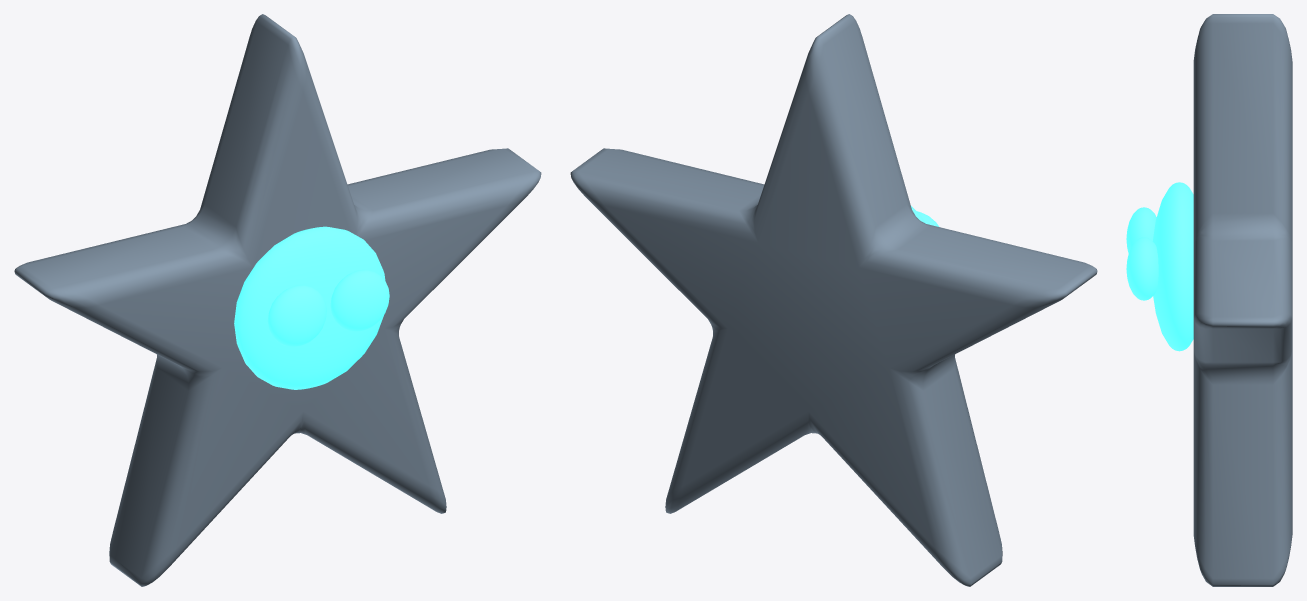
Rendered from wisp_v7.glb.
3 views of the same model, side by side, from view 1: azimuth 30°, elevation 25°; view 2: azimuth 150°, elevation 25°; view 3: azimuth 270°, elevation 25° (orthographic). The views are drawn at different scales.
Parts seen in each view (by area): view 1: WISP_STAR_PRIMARY, WISP_STAR_CORE_EMISSIVE, EYE_EMISSIVE, EYE_EMISSIVE.001; view 2: WISP_STAR_PRIMARY; view 3: WISP_STAR_PRIMARY, WISP_STAR_CORE_EMISSIVE, EYE_EMISSIVE.001, EYE_EMISSIVE.
Part boxes in pixels (box(x1,y1,x2,y2)): WISP_STAR_PRIMARY: box(14, 14, 541, 586); WISP_STAR_CORE_EMISSIVE: box(234, 226, 385, 389); EYE_EMISSIVE: box(267, 285, 326, 346); EYE_EMISSIVE.001: box(330, 269, 389, 331); WISP_STAR_PRIMARY: box(570, 14, 1097, 586); WISP_STAR_PRIMARY: box(1193, 14, 1292, 586); WISP_STAR_CORE_EMISSIVE: box(1152, 182, 1193, 351); EYE_EMISSIVE.001: box(1126, 237, 1158, 300); EYE_EMISSIVE: box(1126, 207, 1156, 253).
Bounding box in the file's own units: 1.58 × 1.56 × 0.47.
